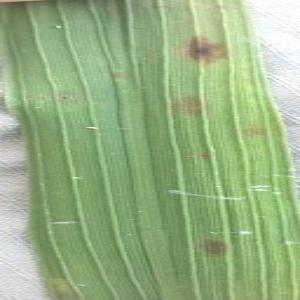0 BrownSpot: (174, 22, 233, 72), (169, 91, 216, 124), (192, 228, 233, 262), (51, 89, 80, 107), (195, 149, 218, 165), (43, 19, 58, 33), (54, 22, 66, 32)
